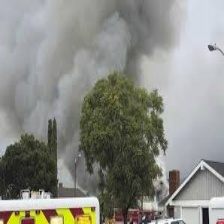smoke: (1, 1, 180, 186)
